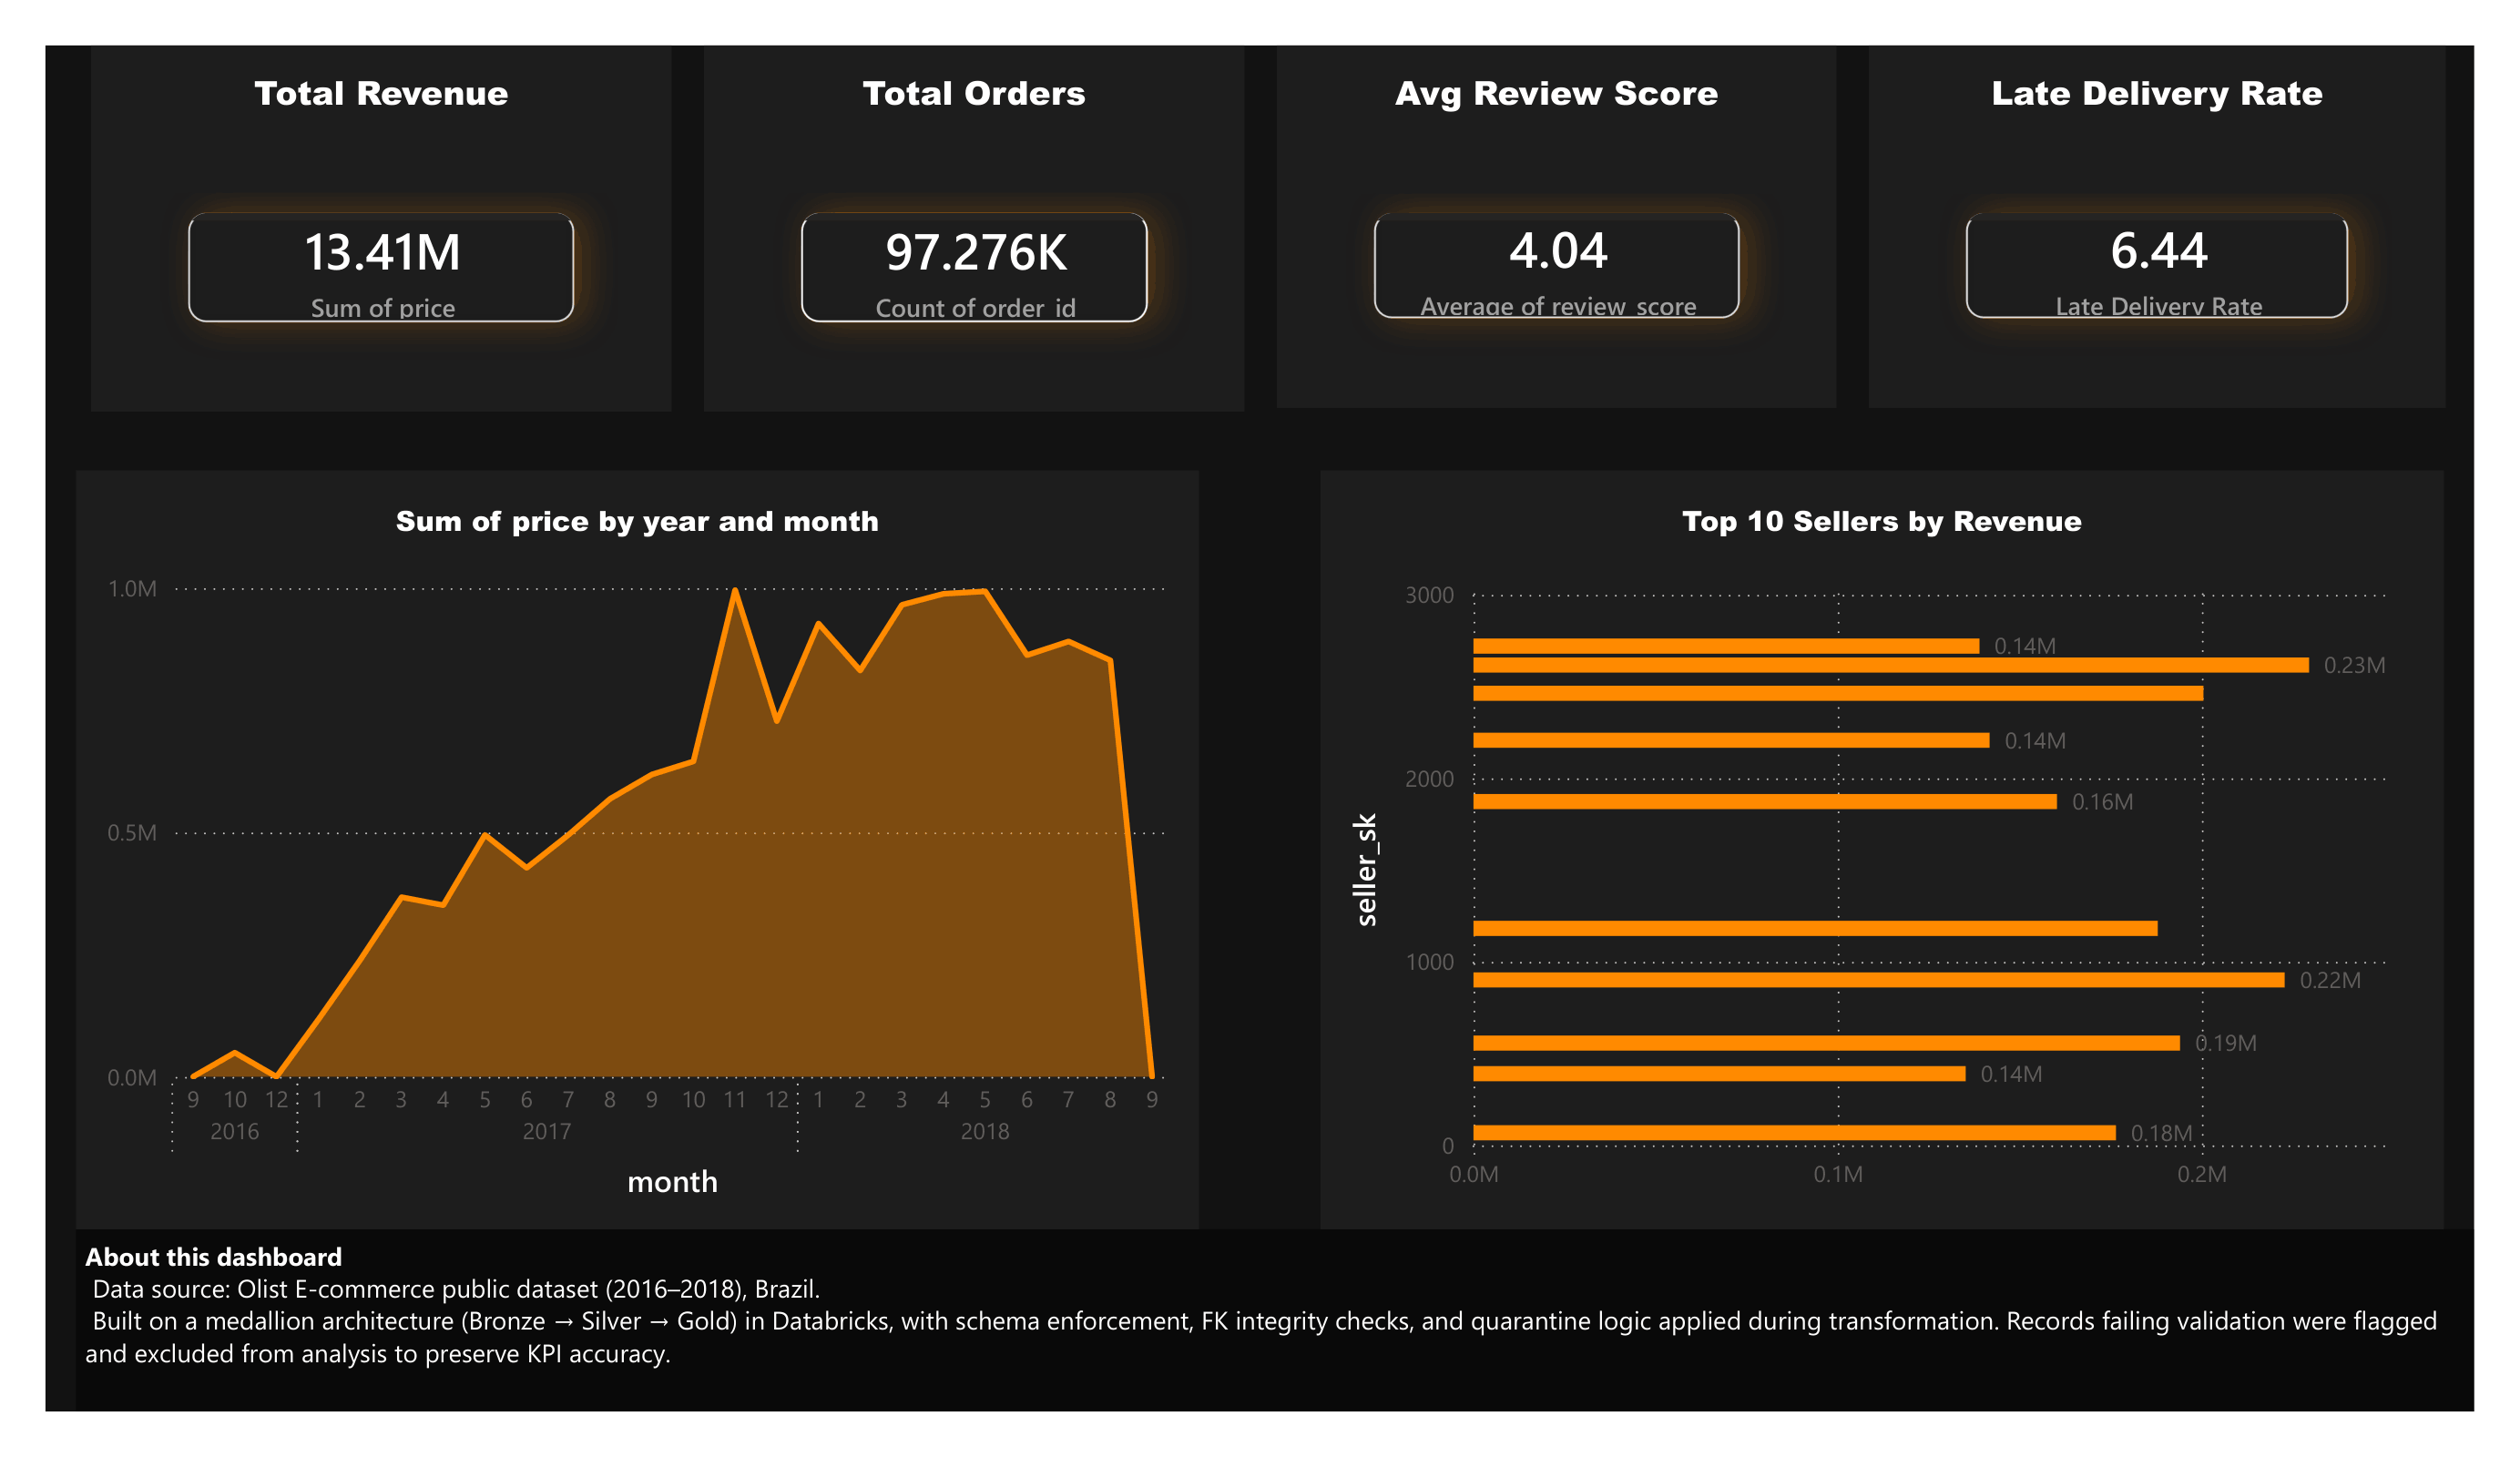

Layout of this report page (visuals, bound fields, positions):
{"tool":"powerbi","page":{"name":"Overview","canvas":[1280,720],"ordinal":0},"visuals":[{"type":"cardVisual","title":"Total Revenue","fields":{"Data":["Sum(fact_order_items.price)"]},"box":[24,0,306,193.5],"z":0},{"type":"cardVisual","title":"Total Orders","fields":{"Data":["Count(fact_order_items.order_id)"]},"box":[346.7,0,285.4,193.5],"z":1000},{"type":"cardVisual","title":"Avg Review Score","fields":{"Data":["Avg(fact_order_items.review_score)"]},"box":[648.8,0,295,190.7],"z":2000},{"type":"cardVisual","title":"Late Delivery Rate","fields":{"Data":["fact_order_items.Late Delivery Rate"]},"box":[960.6,0,304.6,190.7],"z":3000},{"type":"lineChart","fields":{"Y":["Sum(fact_order_items.price)"],"Category":["dim_date.year","dim_date.month"]},"box":[16,224,592,400],"z":4000},{"type":"clusteredBarChart","title":"Top 10 Sellers by Revenue","fields":{"Category":["dim_seller.seller_sk"],"Y":["Sum(fact_order_items.price)"]},"box":[672,224,592,400],"z":5000},{"type":"textbox","box":[16,624,1264,96],"z":6000}]}

Visuals, with their boxes on the page's 1280x720 design canvas (x1, y1, x2, y2). These are canvas units, not pixel positions in the 2520x1457 screenshot, which may show the page scaled, cropped or inside an application window:
"Total Revenue" cardVisual: 24,0,330,194
"Total Orders" cardVisual: 347,0,632,194
"Avg Review Score" cardVisual: 649,0,944,191
"Late Delivery Rate" cardVisual: 961,0,1265,191
lineChart - Sum(fact_order_items.price) x dim_date.year: 16,224,608,624
"Top 10 Sellers by Revenue" clusteredBarChart: 672,224,1264,624
textbox: 16,624,1280,720
